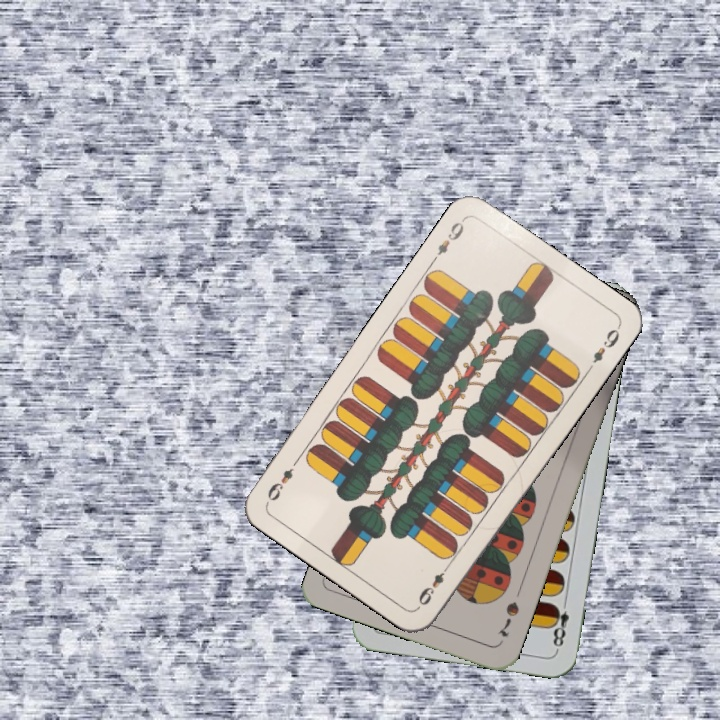E8: (547, 594, 572, 653)
E9: (427, 215, 468, 266), (414, 559, 453, 610)
S7: (494, 597, 522, 640)
